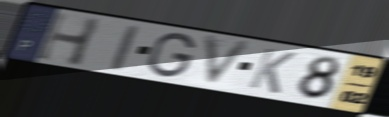8: (293, 55, 340, 102)
G: (145, 31, 198, 78)
H: (34, 10, 105, 69)
I: (110, 23, 142, 73)
K: (245, 46, 299, 96)
V: (201, 33, 256, 90)
